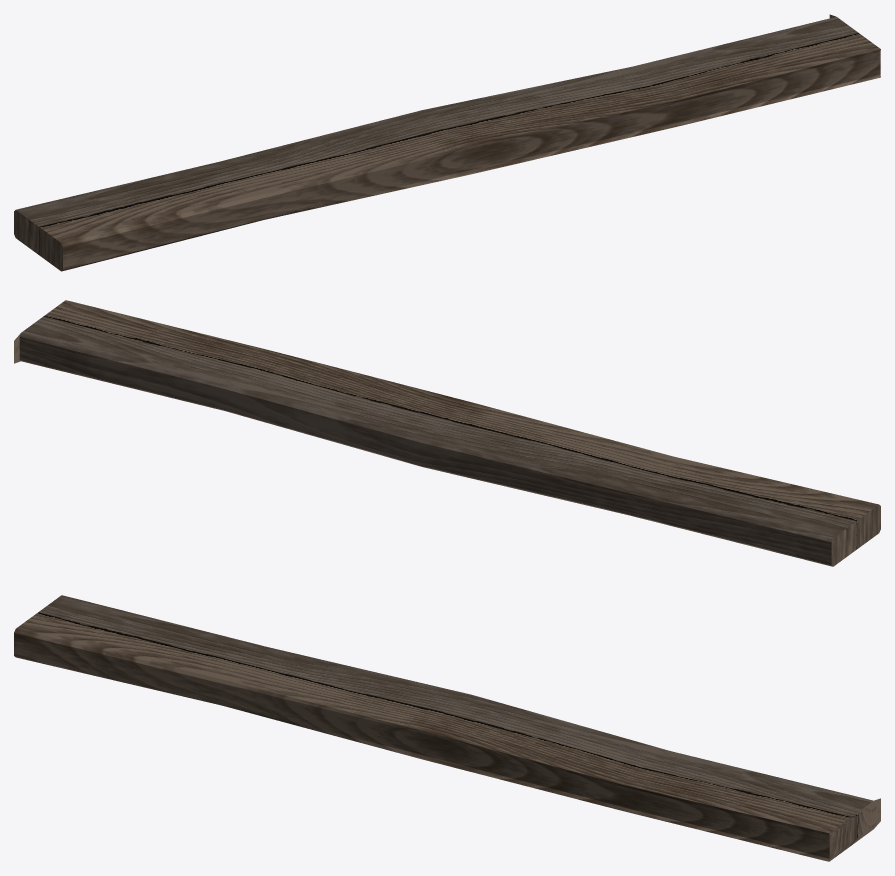
Rendered from SM_Plank.fbx.
3 views of the same model, one above another, from view 1: azimuth 30°, elevation 25°; view 2: azimuth 150°, elevation 25°; view 3: azimuth 330°, elevation 25° (orthographic).
Parts seen in each view (by area): view 1: SM_Plank; view 2: SM_Plank; view 3: SM_Plank.
Part boxes in pixels (x1,y1,x2,y2): SM_Plank: (14,14,880,271); SM_Plank: (14,300,880,566); SM_Plank: (14,595,880,861).
Bounding box in the file's own units: 300 × 10 × 34.95.
